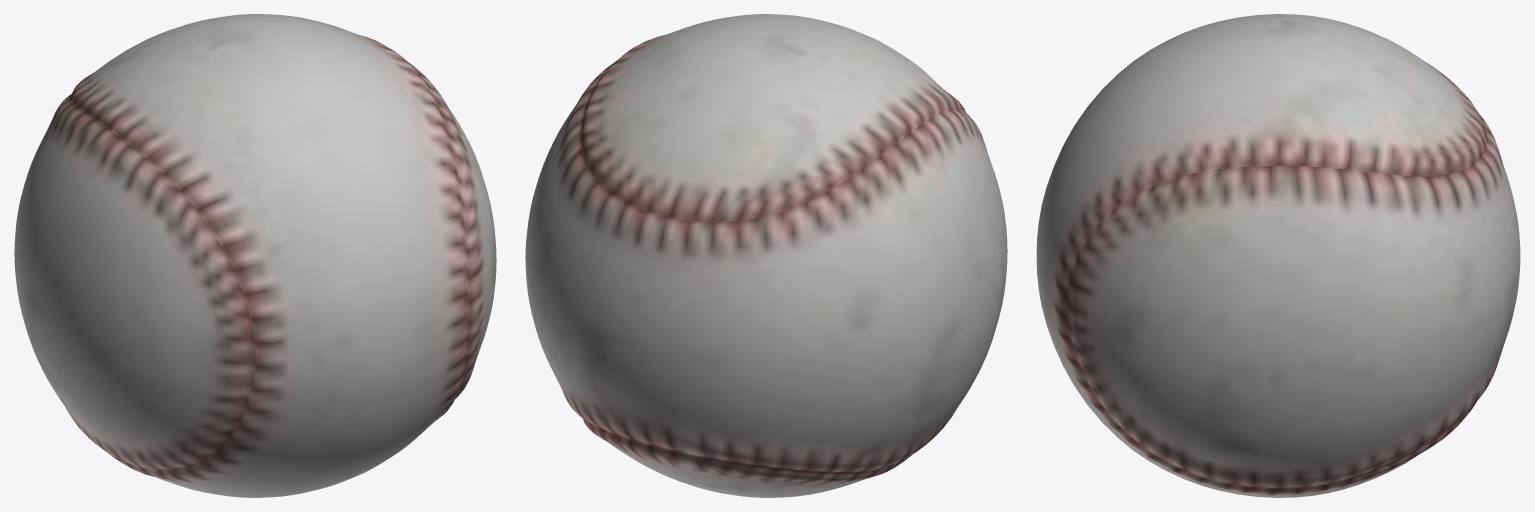
File: baseball_01.glb
3 renders of one model, left to right at view 1: azimuth 30°, elevation 25°; view 2: azimuth 150°, elevation 25°; view 3: azimuth 270°, elevation 25°, orthographic.
Parts seen in each view (by area): view 1: baseball_01; view 2: baseball_01; view 3: baseball_01.
Part boxes in pixels (x1,y1,x2,y2): baseball_01: [14, 14, 496, 497]; baseball_01: [525, 14, 1007, 497]; baseball_01: [1036, 14, 1520, 497].
Bounding box in the file's own units: 0.0735 × 0.0753 × 0.0752.
1 material, 1 textured.
